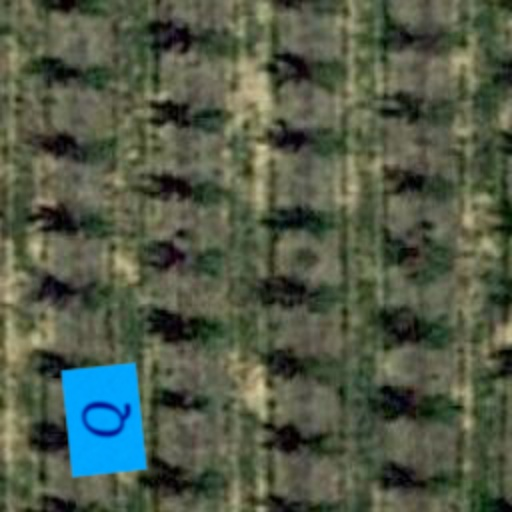rectangle: (44, 360, 164, 480)
